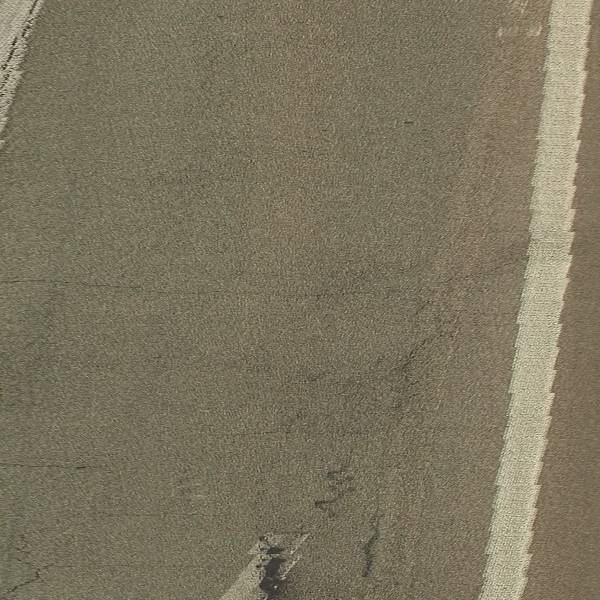road_damage: (362, 301, 455, 508), (1, 271, 368, 302), (1, 523, 63, 600), (312, 450, 363, 523), (352, 492, 390, 588)
